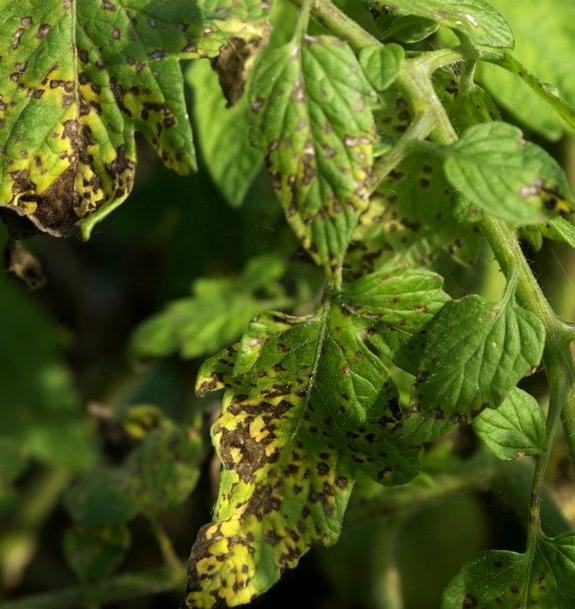Tomato Septoria leaf spot: (168, 317, 406, 601), (0, 3, 257, 223), (245, 28, 376, 294)
